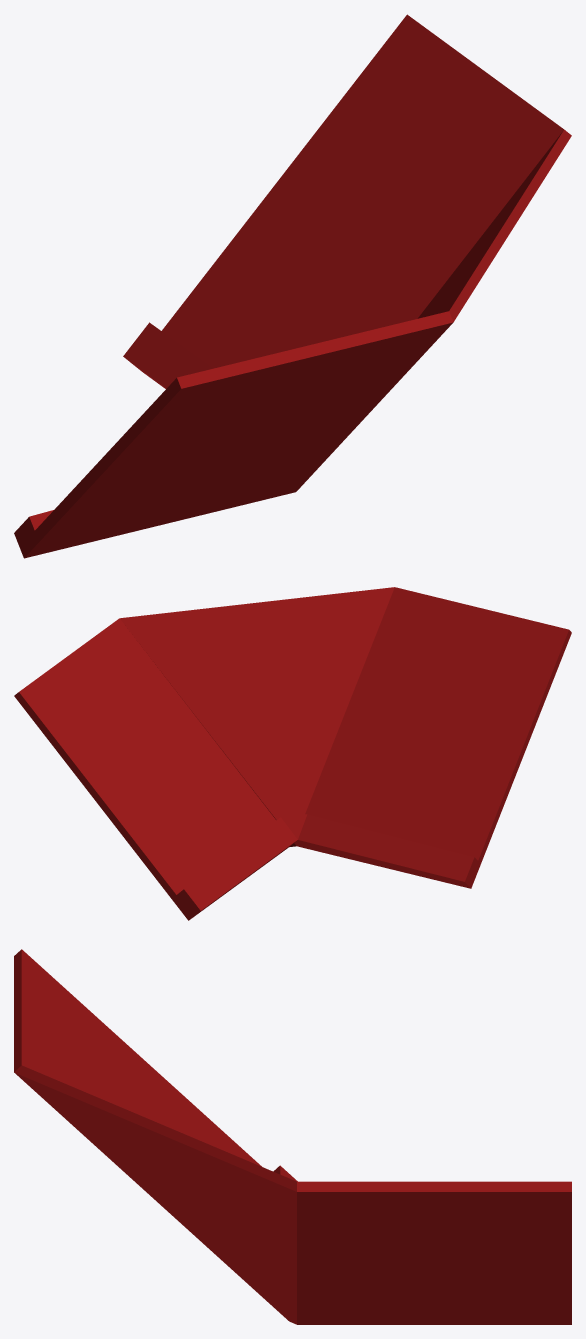
The model's file is MOD_ToitAAngle.FBX.
3 views of the same model, one above another, from view 1: azimuth 30°, elevation 25°; view 2: azimuth 150°, elevation 25°; view 3: azimuth 270°, elevation 25° (orthographic). The views are drawn at different scales.
Parts seen in each view (by area): view 1: MOD_toitangleB; view 2: MOD_toitangleB; view 3: MOD_toitangleB.
Part boxes in pixels (x1,y1,x2,y2): MOD_toitangleB: (14, 14, 571, 558); MOD_toitangleB: (14, 587, 571, 920); MOD_toitangleB: (14, 949, 571, 1324).
Size of the model in its own units: 2.03 by 1.03 by 2.03.
